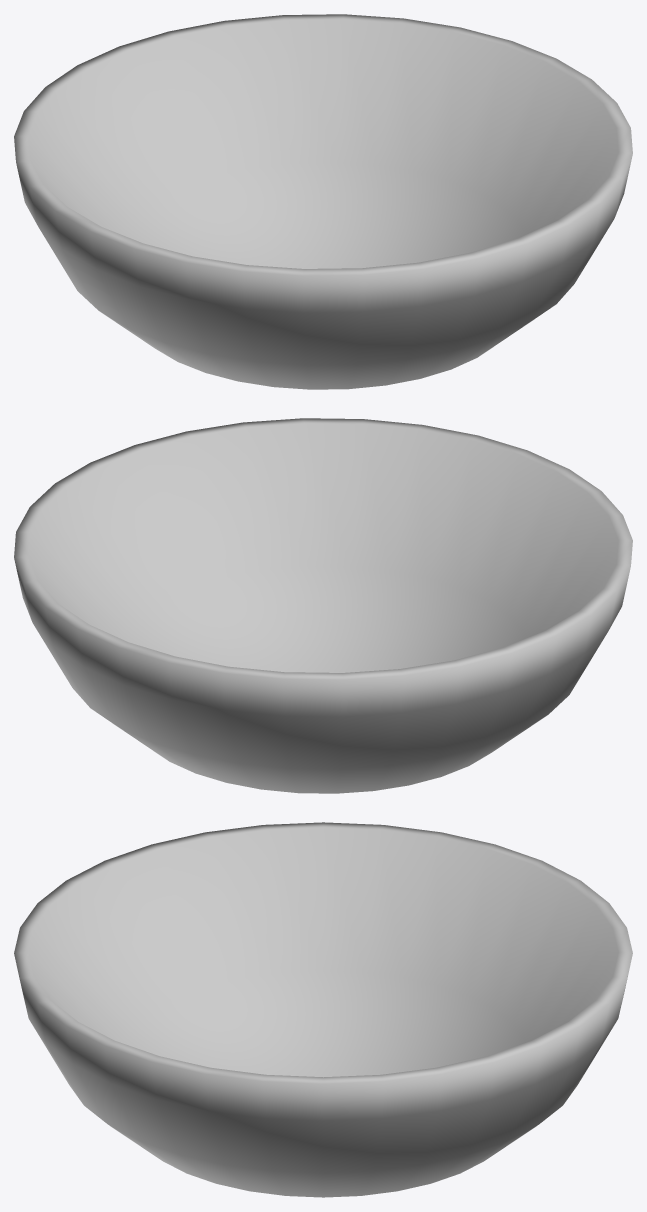
The model's file is bowl.glb.
3 views of the same model, one above another, from view 1: azimuth 30°, elevation 25°; view 2: azimuth 150°, elevation 25°; view 3: azimuth 270°, elevation 25° (orthographic).
Parts seen in each view (by area): view 1: bowl; view 2: bowl; view 3: bowl.
Part boxes in pixels (x1,y1,x2,y2): bowl: (14, 14, 632, 389); bowl: (14, 418, 632, 793); bowl: (14, 822, 632, 1197).
Size of the model in its own units: 2.4 by 0.8827 by 2.4.
Materials: 1 (1 with a texture image).
